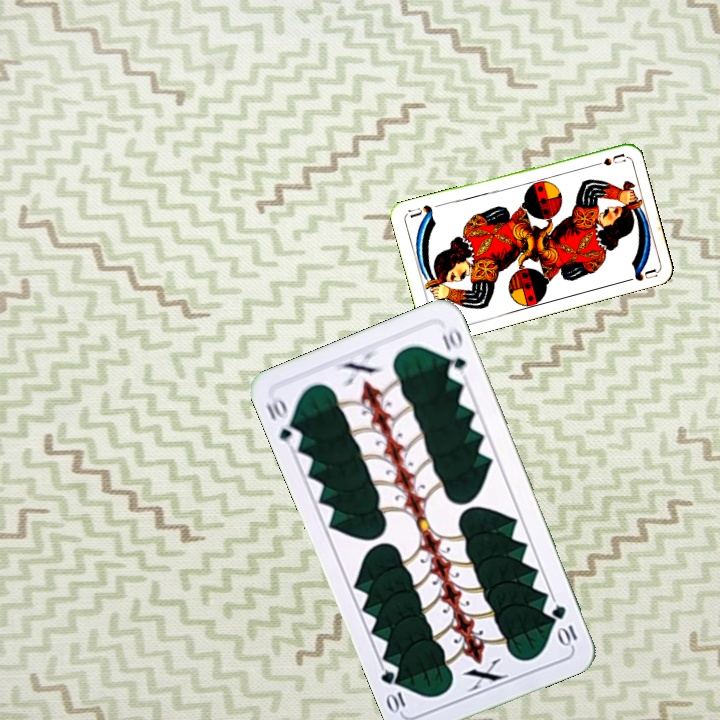G10: (262, 395, 305, 451), (547, 601, 580, 649)
SU: (587, 149, 627, 170)
